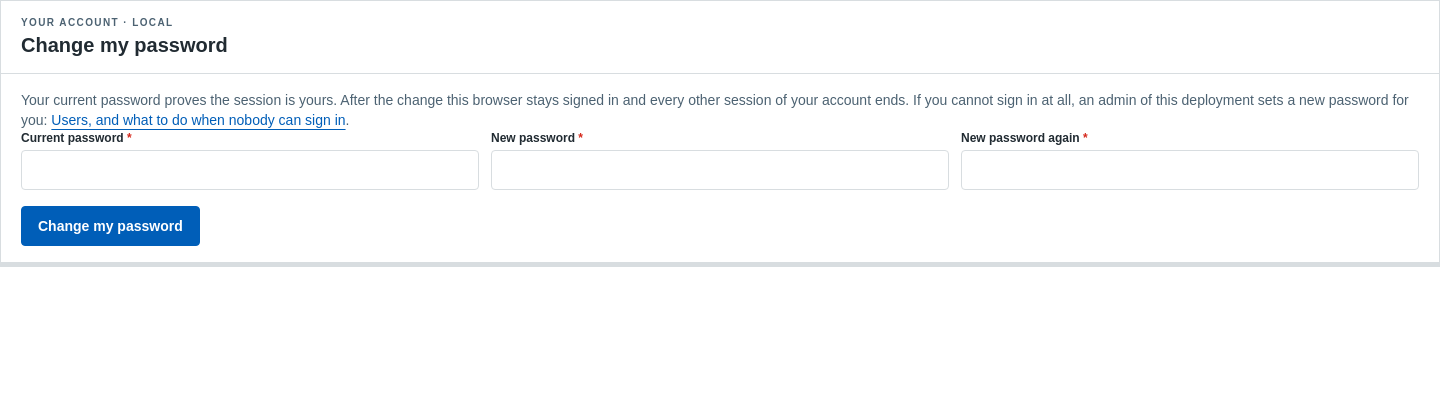
Test: ChangeMyPasswordCard › five wrong attempts in a minute are refused with the seconds to wait
The image size is (1440, 415).
Type "wrong-one-entirely" into the password field with test id "my-password-current".
click(250, 170); type("wrong-one-entirely")  # box x1=21 y1=150 x2=479 y2=190
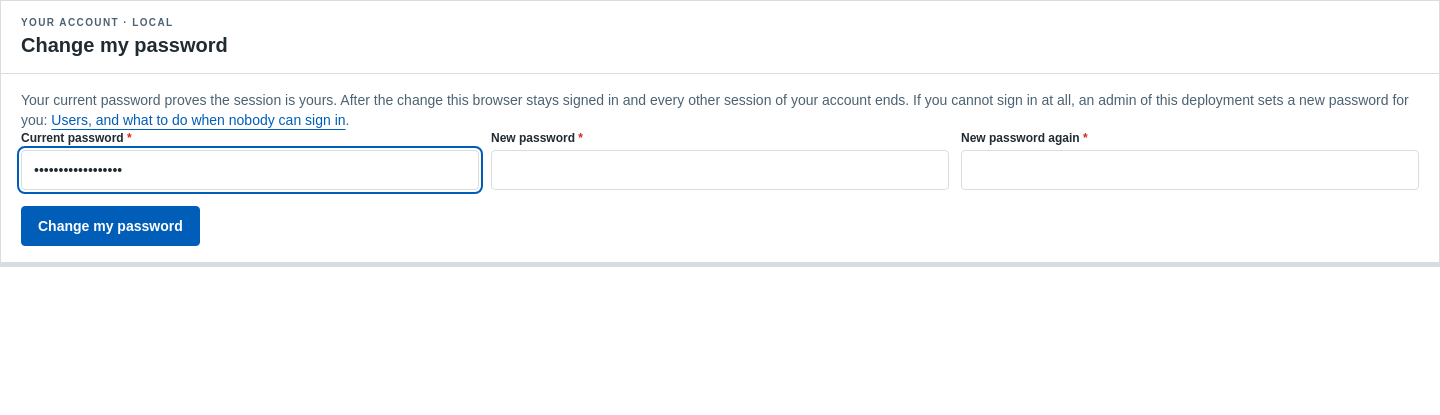
Type "a-brand-new-password" into the password field with test id "my-password-new".
click(720, 170); type("a-brand-new-password")  # box x1=491 y1=150 x2=949 y2=190
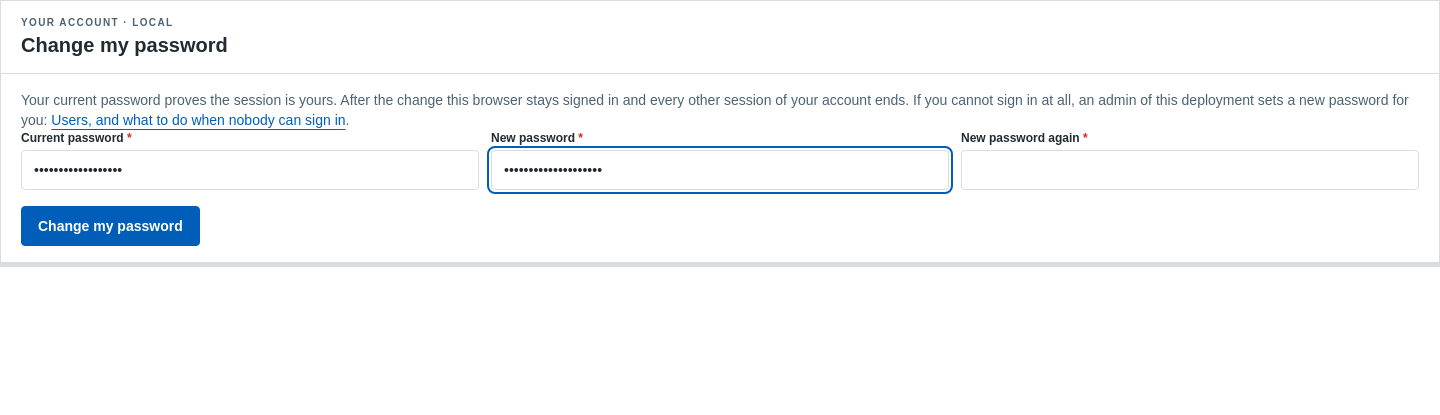
Type "a-brand-new-password" into the password field with test id "my-password-again".
click(1190, 170); type("a-brand-new-password")  # box x1=961 y1=150 x2=1419 y2=190
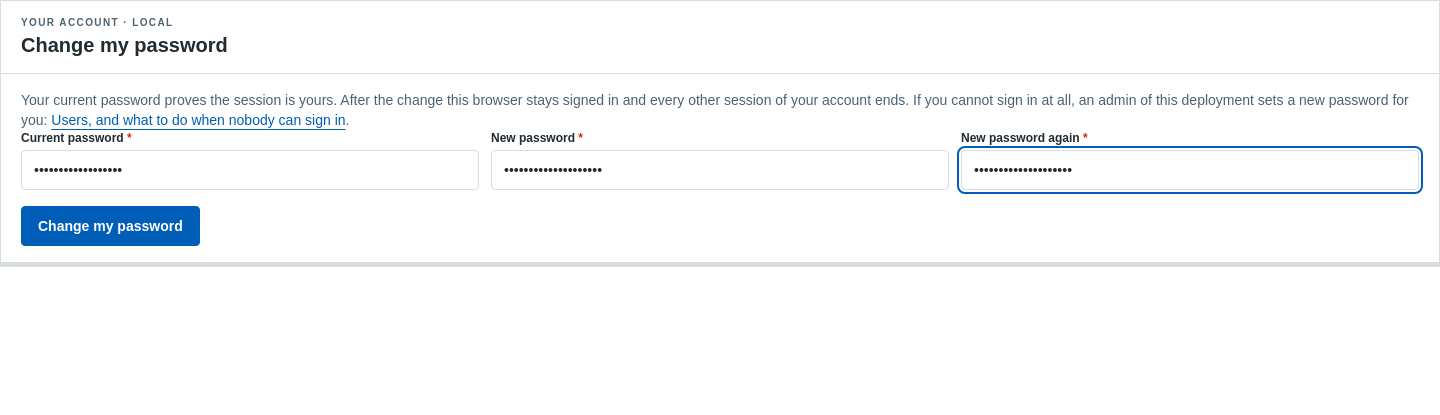
Click the button with test id "my-password-submit".
click(110, 226)  # box x1=21 y1=206 x2=200 y2=246
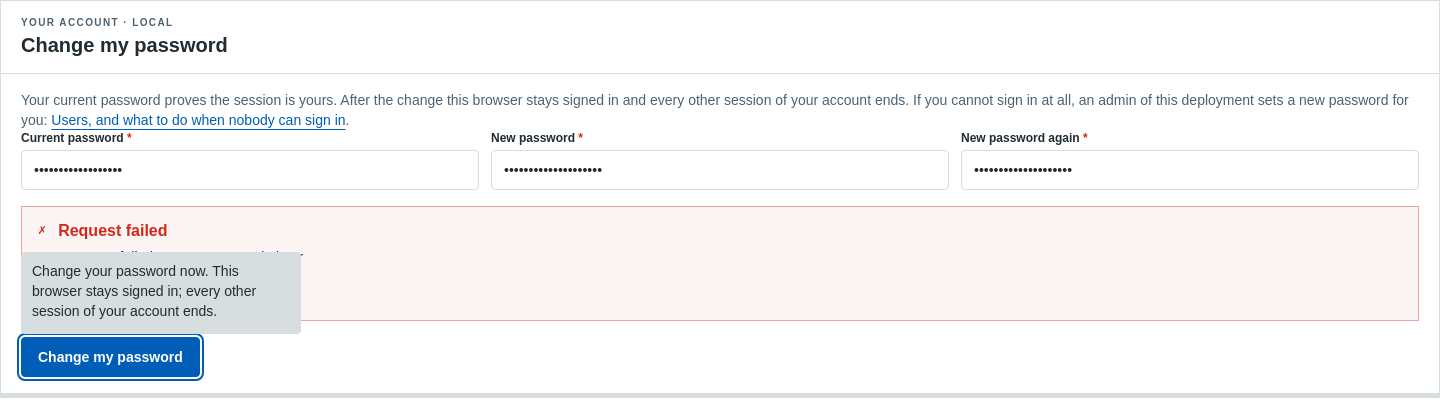
Expected: the message with test id "error-state" shows "too many failed attempts", x1=58 y1=249 x2=303 y2=265
